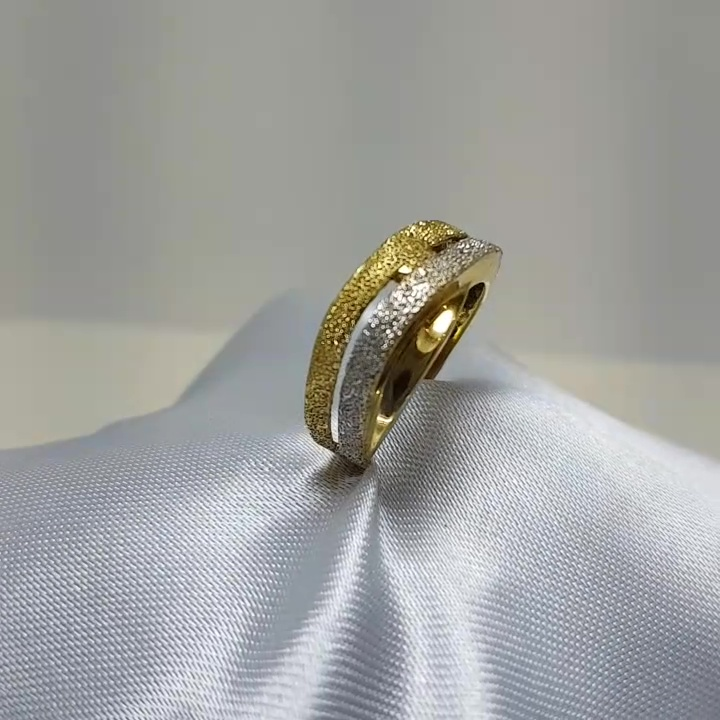Ring 5: (251, 204, 503, 509)
